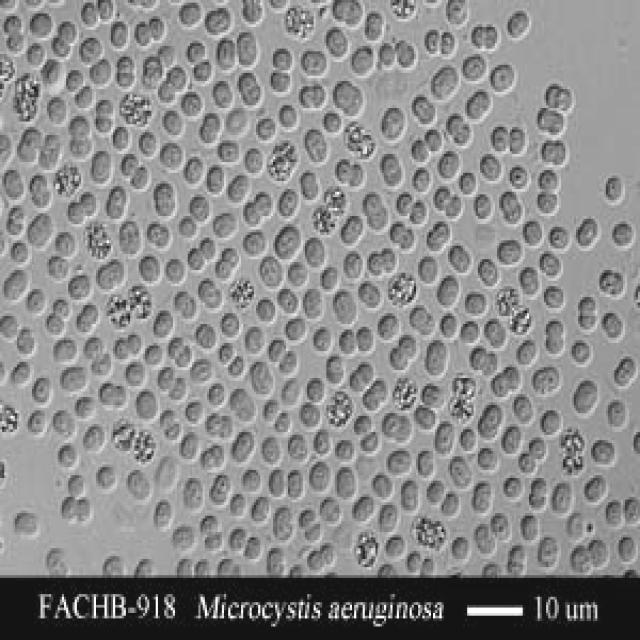Blue Green Algae: (275, 219, 307, 262), (476, 400, 508, 443), (122, 462, 154, 502), (570, 378, 600, 419), (22, 210, 54, 248), (534, 532, 566, 570), (56, 362, 90, 397), (484, 62, 518, 97), (256, 251, 286, 289), (378, 151, 408, 189), (231, 384, 258, 426), (250, 357, 275, 402), (130, 427, 158, 467), (429, 65, 461, 100), (273, 500, 297, 546), (10, 508, 42, 542), (250, 294, 280, 330), (301, 230, 328, 270), (380, 103, 407, 143), (115, 216, 143, 254), (211, 208, 239, 246), (529, 362, 559, 397), (85, 149, 111, 189), (352, 527, 378, 567), (600, 305, 627, 343), (307, 456, 335, 492), (504, 8, 534, 41), (335, 459, 358, 502), (2, 167, 26, 208), (512, 335, 540, 370), (478, 148, 505, 184), (328, 289, 358, 321), (588, 435, 618, 467), (582, 473, 612, 505), (173, 284, 198, 322), (412, 92, 437, 130), (536, 405, 563, 440), (149, 502, 175, 538), (548, 480, 574, 516), (237, 30, 260, 70), (508, 392, 535, 426), (53, 405, 77, 443), (341, 210, 365, 248), (518, 262, 542, 300), (616, 529, 640, 567), (132, 386, 158, 421), (179, 478, 205, 513), (320, 497, 346, 532), (356, 278, 382, 313), (565, 540, 591, 575), (608, 219, 636, 251), (497, 424, 525, 456), (122, 359, 149, 392), (536, 248, 563, 281), (572, 216, 599, 248), (53, 440, 79, 473), (149, 305, 175, 338), (213, 35, 237, 70), (324, 27, 348, 62), (179, 432, 203, 467), (533, 186, 561, 216), (369, 467, 393, 502), (179, 84, 205, 116), (230, 427, 256, 459), (309, 424, 335, 456), (448, 240, 471, 276), (79, 33, 107, 62), (26, 8, 53, 38), (158, 143, 185, 173), (348, 46, 375, 76), (280, 313, 307, 343), (602, 494, 625, 529), (88, 57, 113, 89), (303, 373, 328, 405), (414, 446, 439, 478), (203, 162, 224, 200), (589, 532, 610, 570), (162, 105, 186, 138), (23, 283, 47, 316), (503, 124, 527, 157), (437, 148, 461, 181), (501, 472, 523, 508), (267, 65, 294, 94), (519, 219, 546, 248), (352, 492, 375, 526), (484, 510, 510, 540), (456, 165, 478, 200), (241, 146, 265, 178), (137, 251, 160, 284), (216, 310, 243, 338), (320, 111, 346, 140), (301, 46, 326, 76), (461, 54, 486, 84), (169, 370, 192, 402), (604, 173, 627, 205), (423, 351, 450, 378), (262, 540, 284, 573), (24, 408, 49, 437), (94, 465, 119, 494), (186, 354, 211, 383), (604, 400, 629, 429), (96, 376, 115, 414), (209, 78, 233, 108), (275, 186, 299, 216), (311, 324, 335, 354), (465, 289, 489, 319), (420, 475, 444, 505), (55, 227, 77, 259), (51, 292, 73, 324), (439, 311, 461, 343), (388, 343, 410, 375), (618, 494, 640, 526), (439, 489, 461, 521), (216, 138, 243, 164), (241, 227, 267, 254), (252, 110, 277, 138), (405, 300, 429, 329), (286, 432, 307, 465), (188, 189, 211, 219), (286, 259, 309, 289), (472, 186, 491, 222), (378, 410, 397, 446), (15, 329, 40, 356), (382, 532, 407, 559), (45, 92, 66, 124), (6, 264, 30, 292), (335, 327, 356, 359), (41, 60, 64, 89), (9, 357, 32, 386), (416, 254, 439, 283), (446, 535, 469, 564), (269, 467, 288, 502), (83, 421, 105, 451), (183, 154, 205, 184), (520, 513, 542, 543), (203, 530, 228, 556), (183, 38, 207, 65), (405, 197, 429, 224), (420, 381, 444, 408), (471, 524, 495, 551), (79, 2, 102, 30), (192, 56, 215, 84), (23, 38, 45, 67), (164, 254, 186, 283), (333, 432, 354, 462), (414, 402, 435, 432), (154, 197, 179, 222), (450, 122, 474, 148), (378, 245, 401, 272), (130, 164, 152, 192), (456, 426, 478, 454), (111, 122, 132, 151), (47, 254, 68, 283), (397, 41, 418, 70), (476, 446, 497, 475), (156, 362, 175, 394), (333, 157, 352, 189), (497, 235, 516, 267), (49, 35, 73, 60), (66, 113, 90, 138), (271, 46, 296, 70), (612, 359, 632, 389), (30, 376, 53, 402), (570, 338, 593, 364), (55, 16, 77, 43), (117, 151, 139, 178), (244, 464, 262, 497), (318, 264, 339, 292), (529, 472, 550, 500), (488, 122, 508, 151), (68, 135, 92, 159), (326, 3, 350, 27), (175, 213, 198, 238), (205, 383, 228, 408), (361, 5, 384, 30), (538, 167, 561, 192), (228, 492, 250, 518), (552, 84, 574, 110), (109, 19, 128, 49), (354, 324, 373, 354), (348, 162, 367, 192), (81, 297, 102, 324), (431, 216, 452, 243), (439, 24, 456, 57), (482, 24, 499, 57), (550, 140, 570, 168), (90, 354, 113, 378), (75, 497, 94, 526), (136, 132, 158, 157), (407, 140, 429, 165), (420, 124, 442, 149), (495, 189, 520, 211), (358, 192, 384, 213), (186, 243, 204, 273), (422, 24, 440, 54), (79, 186, 98, 214), (4, 30, 26, 54), (113, 51, 134, 76), (156, 78, 177, 103), (30, 186, 51, 211), (303, 124, 324, 149), (303, 521, 324, 546), (367, 205, 388, 230), (58, 492, 76, 521), (536, 103, 554, 132), (158, 41, 177, 68), (258, 397, 277, 424), (600, 265, 616, 297), (2, 313, 19, 343), (154, 178, 177, 200), (75, 84, 96, 108), (177, 3, 198, 27), (83, 335, 107, 356), (331, 81, 352, 105), (162, 335, 186, 356), (576, 292, 597, 316), (360, 429, 380, 454), (17, 138, 36, 164), (205, 6, 222, 35), (278, 100, 296, 127), (186, 399, 204, 426), (215, 340, 237, 362), (109, 256, 126, 284), (45, 313, 64, 338), (378, 38, 394, 67), (113, 70, 134, 92), (102, 554, 124, 575), (126, 329, 143, 356), (241, 200, 258, 227), (226, 354, 243, 381), (96, 265, 115, 289), (66, 197, 81, 227), (68, 472, 86, 497), (467, 22, 484, 48), (62, 68, 83, 89), (22, 127, 40, 151), (198, 235, 216, 259), (244, 535, 262, 559), (307, 545, 324, 570), (198, 119, 218, 140), (2, 13, 24, 32), (299, 170, 318, 192), (444, 111, 461, 135), (132, 16, 147, 43), (26, 173, 47, 192), (158, 408, 177, 429), (237, 68, 256, 89), (576, 311, 595, 332), (544, 316, 565, 335), (356, 359, 374, 381), (540, 135, 554, 162), (367, 251, 382, 276), (147, 16, 164, 38), (222, 243, 239, 265), (8, 202, 26, 222), (111, 335, 126, 359), (312, 78, 324, 108), (275, 408, 290, 432), (467, 343, 482, 367), (175, 554, 192, 575), (346, 370, 362, 392), (405, 548, 418, 573)
